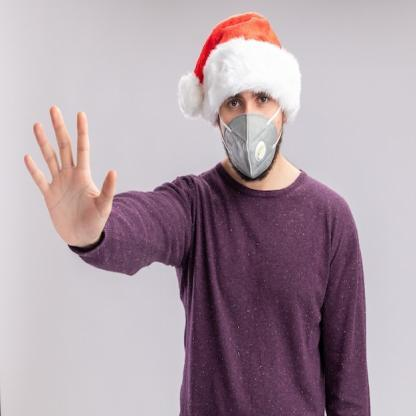stop: (22, 98, 120, 258)
